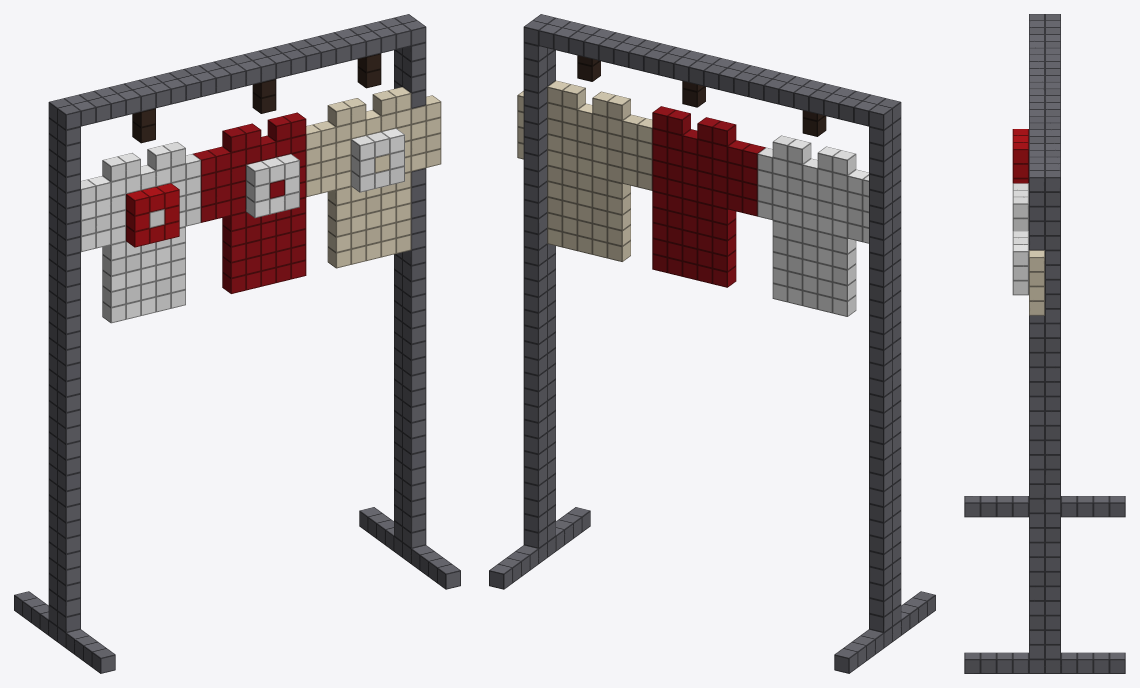
Rendered from merch_rack.glb.
3 renders of one model, left to right at view 1: azimuth 30°, elevation 25°; view 2: azimuth 150°, elevation 25°; view 3: azimuth 270°, elevation 25°, orthographic. The views are drawn at different scales.
Visible parts, largest first — view 1: merch_rack; view 2: merch_rack; view 3: merch_rack.
Boxes of the visible parts, x1,y1,x2,y2 form: merch_rack: (14, 14, 460, 673); merch_rack: (489, 14, 935, 673); merch_rack: (964, 14, 1125, 673).
Bounding box in the file's own units: 1.25 × 1.7 × 0.5.
Materials: 6 (6 with a texture image).
